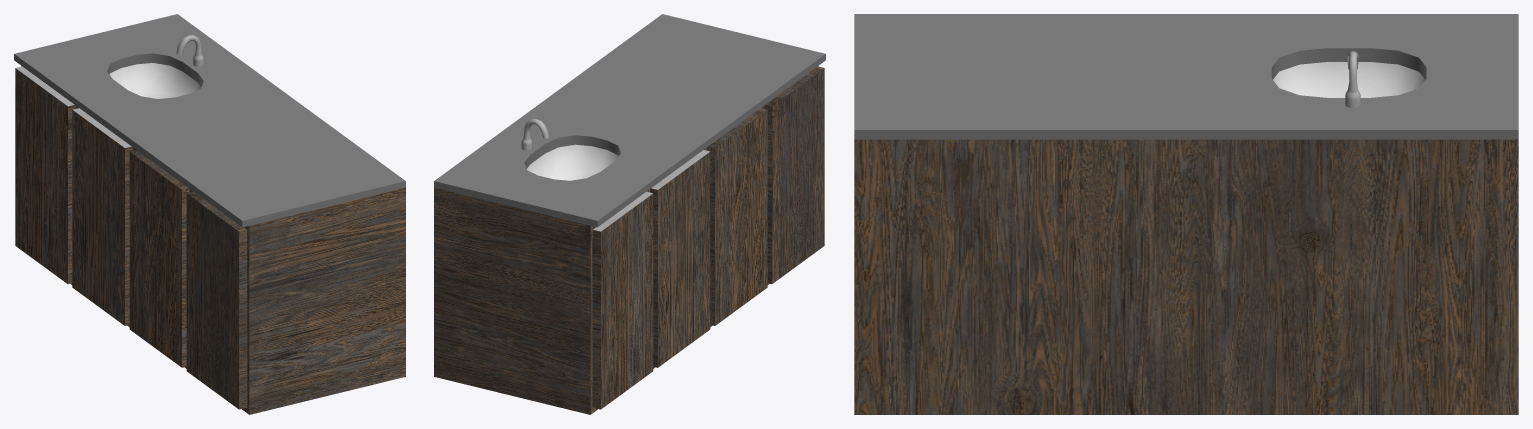
File: KitchenSink.fbx
The picture shows the model from 3 angles, left to right: view 1: azimuth 30°, elevation 25°; view 2: azimuth 150°, elevation 25°; view 3: azimuth 270°, elevation 25°; orthographic projection. The views are drawn at different scales.
Visible parts, largest first — view 1: propKitchenSink; view 2: propKitchenSink; view 3: propKitchenSink.
Part boxes in pixels (box(x1,y1,x2,y2)): propKitchenSink: box(14, 14, 405, 414); propKitchenSink: box(434, 14, 825, 414); propKitchenSink: box(854, 14, 1518, 414).
Size of the model in its own units: 91.11 by 120 by 219.
Materials: 4 (3 with a texture image).
